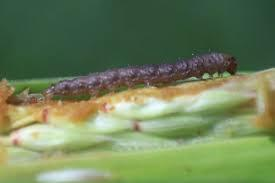fallarmy_worm: (13, 49, 247, 101)
